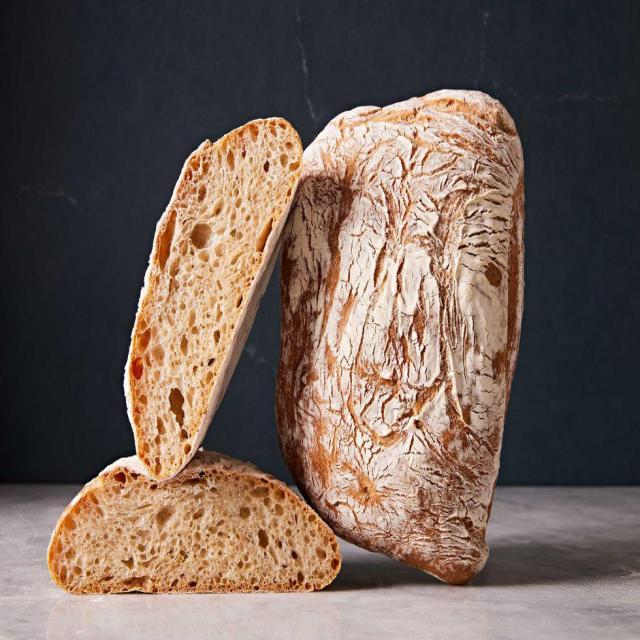Ciabatta: (276, 90, 523, 583)
